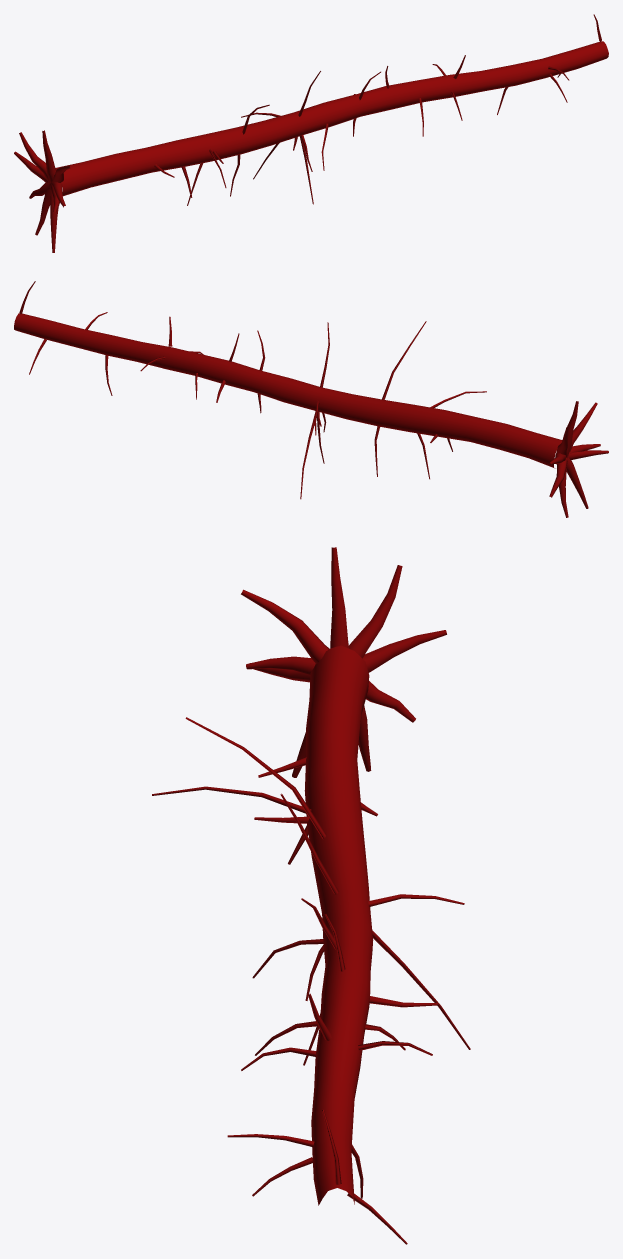
Rendered from fallen_pine.glb.
The picture shows the model from 3 angles, top to bottom: view 1: azimuth 30°, elevation 25°; view 2: azimuth 150°, elevation 25°; view 3: azimuth 270°, elevation 25°; orthographic projection. The views are drawn at different scales.
Visible parts, largest first — view 1: LOD0; view 2: LOD0; view 3: LOD0.
Part boxes in pixels (x1=…): LOD0: x1=14, y1=14, x2=608, y2=252; LOD0: x1=14, y1=281, x2=608, y2=517; LOD0: x1=152, y1=547, x2=470, y2=1244.
Size of what is drawn, in the model's own units: 9.42 by 2.21 by 2.28.
